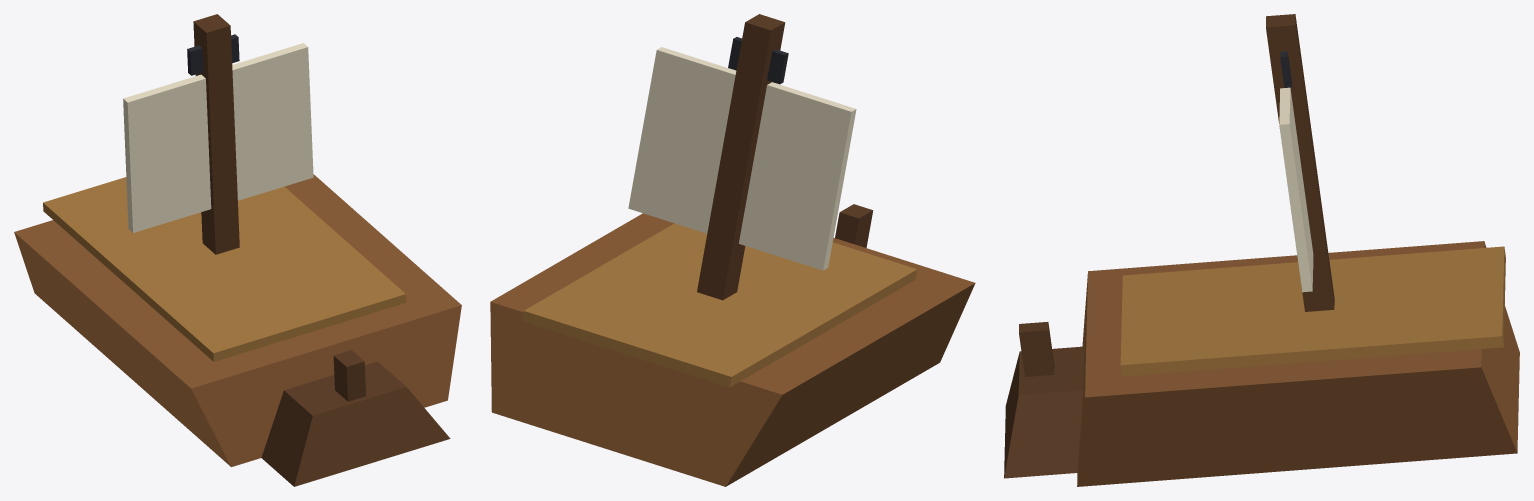
Rendered from env_r13_beached_ship.glb.
3 views of the same model, side by side, from view 1: azimuth 30°, elevation 25°; view 2: azimuth 150°, elevation 25°; view 3: azimuth 270°, elevation 25° (orthographic). The views are drawn at different scales.
Visible parts, largest first — view 1: env_r13_beached_ship; view 2: env_r13_beached_ship; view 3: env_r13_beached_ship.
Boxes of the visible parts, x1,y1,x2,y2 form: env_r13_beached_ship: (14, 14, 461, 486); env_r13_beached_ship: (490, 14, 975, 486); env_r13_beached_ship: (1004, 14, 1519, 486).
Bounding box in the file's own units: 5.4 × 7 × 8.
Materials: 1 (1 with a texture image).
